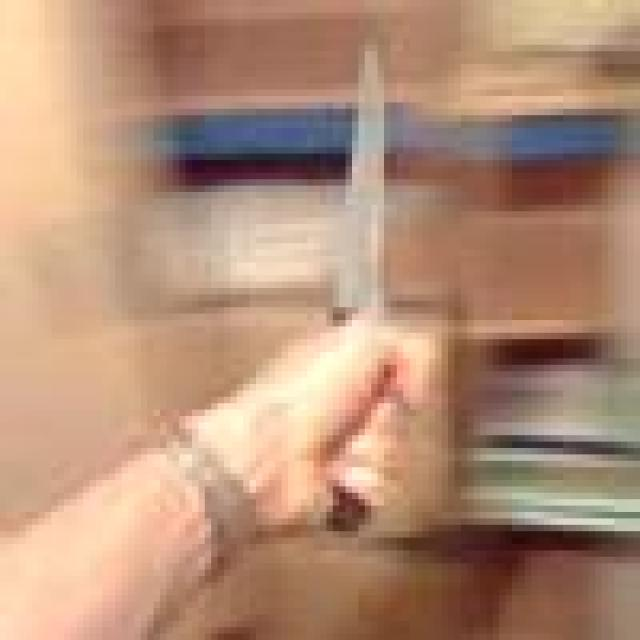knife: (334, 58, 385, 321)
